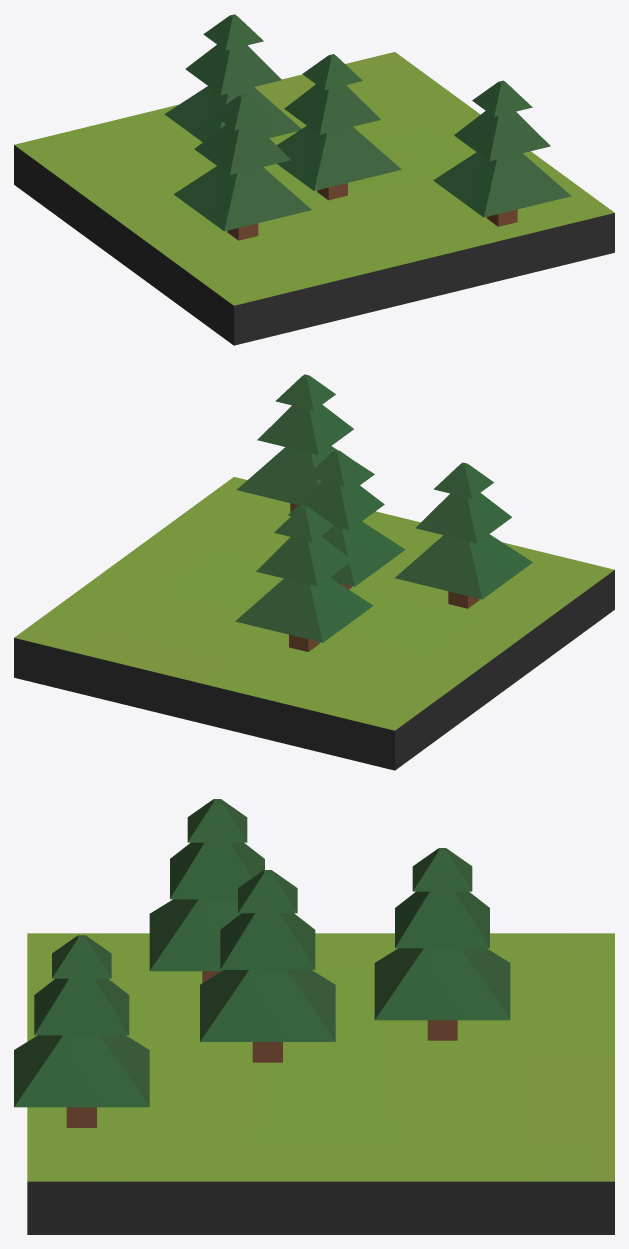
Rendered from trees.fbx.
3 views of the same model, one above another, from view 1: azimuth 30°, elevation 25°; view 2: azimuth 150°, elevation 25°; view 3: azimuth 270°, elevation 25° (orthographic). The views are drawn at different scales.
Parts seen in each view (by area): view 1: block, tree, tree.003, tree.002, tree.001; view 2: block, tree, tree.001, tree.003, tree.002; view 3: block, tree.001, tree.003, tree.002, tree.
Boxes of the visible parts, x1,y1,x2,y2 form: block: (14,52,614,345); tree: (173,94,311,240); tree.003: (433,80,571,226); tree.002: (277,54,401,200); tree.001: (164,14,301,142); block: (14,477,614,770); tree: (395,462,532,608); tree.001: (235,506,373,651); tree.003: (237,374,374,512); tree.002: (288,449,405,589); block: (27,933,614,1234); tree.001: (374,848,510,1040); tree.003: (14,935,149,1127); tree.002: (200,870,335,1062); tree: (149,799,264,982).
Bounding box in the file's own units: 205 × 200 × 89.35.
Materials: 1 (1 with a texture image).
